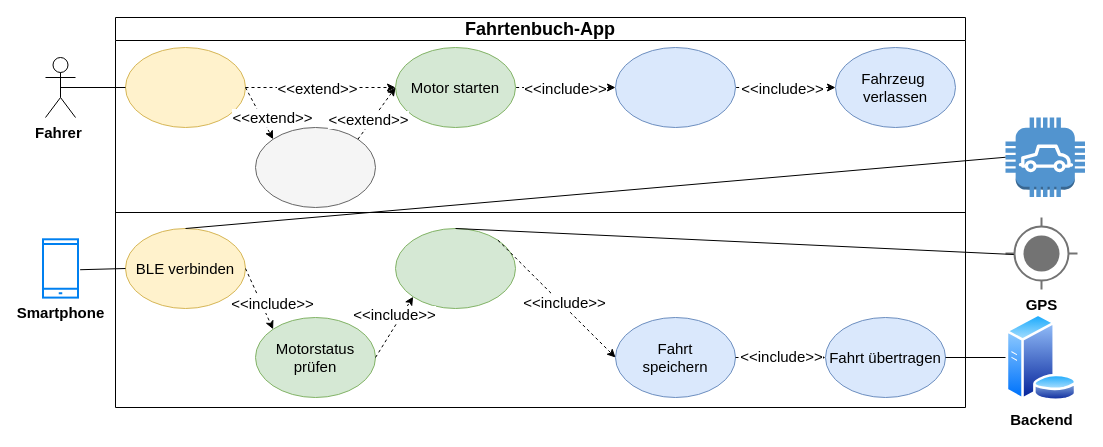
Image size: 1103x447. Some labels were removed from this diagram. The centre of each missing label's shape, as x and y in pixels:
Fahrt automatisiert aufzeichnen: the point at 455,268
In das Fahrzeug einsteigen: the point at 185,87
Kategorie ändern: the point at 315,167
Motor ausschalten: the point at 675,87
OBD-II: the point at 1044,156
